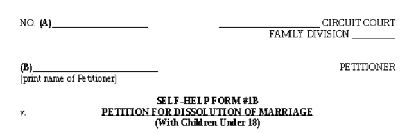textline: (31, 60, 159, 73), (218, 16, 320, 29), (50, 17, 150, 30), (351, 28, 396, 40)
